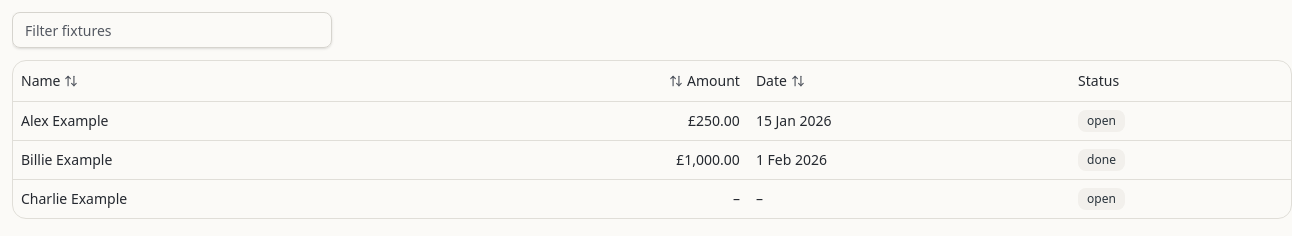
Test: DataTable › filters rows across columns
The width and height of the screenshot is (1292, 236).
Type "billie" into the search field labelled "Filter fixtures" at (172, 30), box [12,12,332,48]
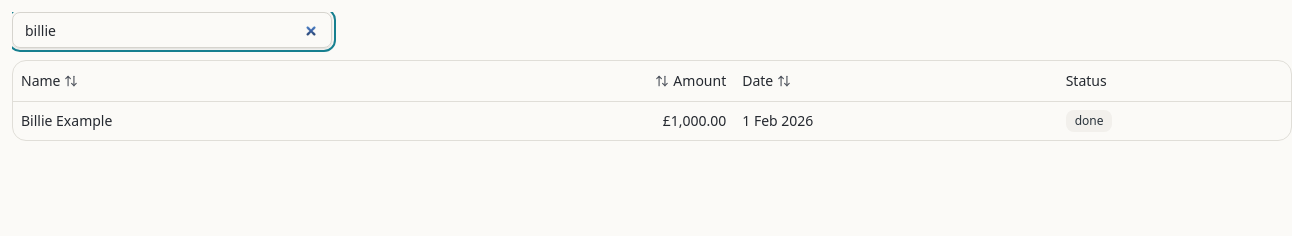
Expected: the text "Billie Example" is shown, [13,101,412,140]
Now the text "Alex Example" is gone
Replace the text in the search field named "Filter fixtures" with "zzz" at (172, 30), box [12,12,332,48]
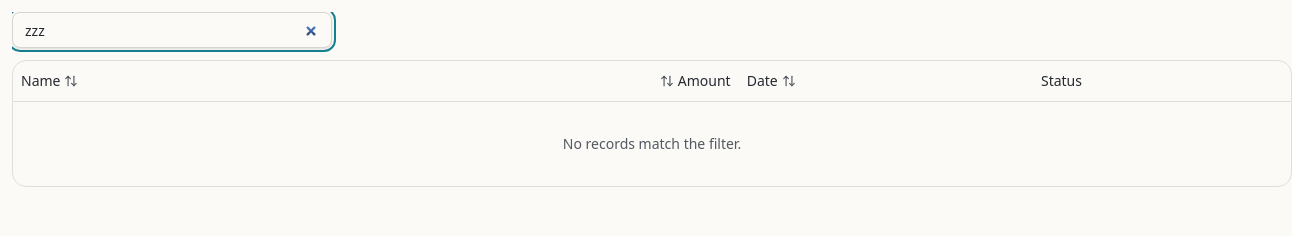
Now the text "No records match the filter." is shown, box [13,101,1291,186]
